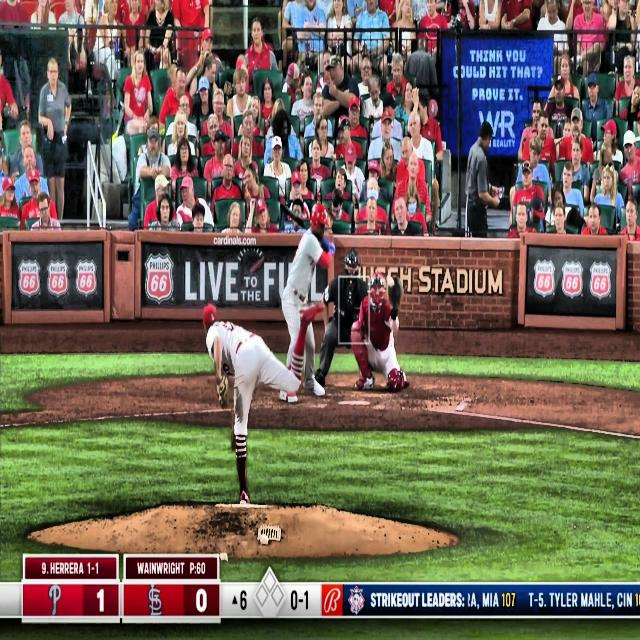baseball: (386, 274, 395, 288)
